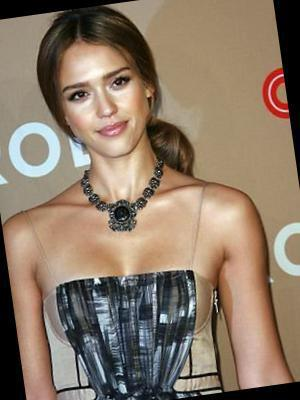Sober: (64, 51, 148, 152)
